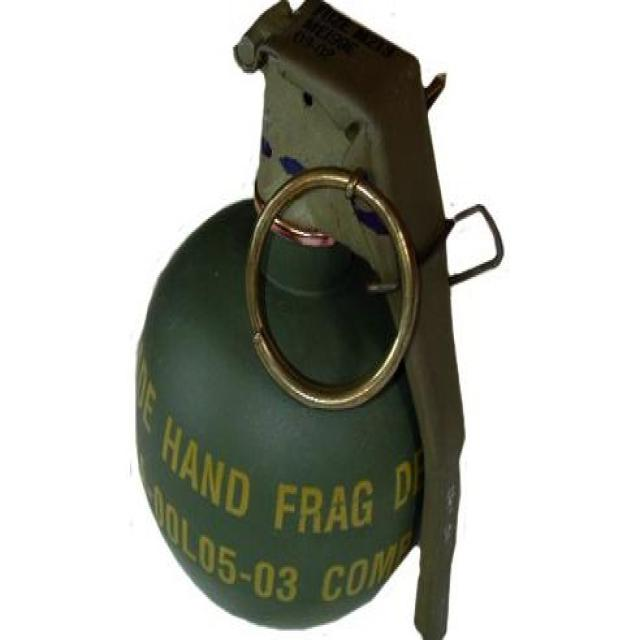grenade: (136, 1, 506, 639)
